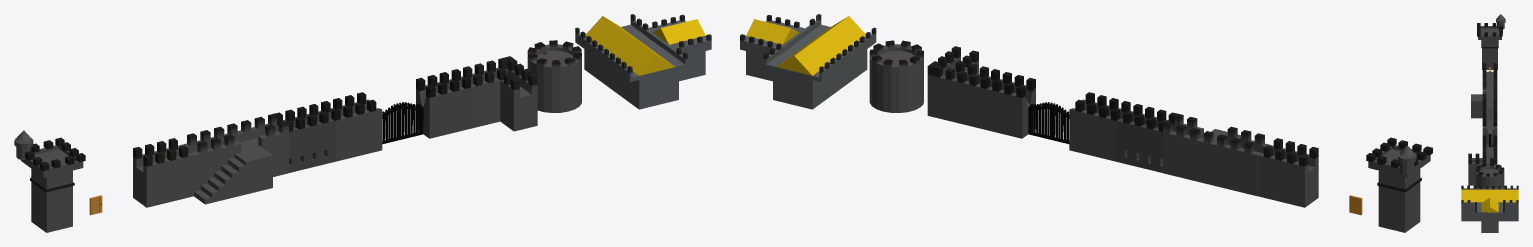
The model's file is blender kasteelaf7.fbx.
The picture shows the model from 3 angles, left to right: view 1: azimuth 30°, elevation 25°; view 2: azimuth 150°, elevation 25°; view 3: azimuth 270°, elevation 25°; orthographic projection. The views are drawn at different scales.
Visible parts, largest first — view 1: hoofd kasteel, poortmuur, muur met trap, uitkijktoren, hoekmuur, muur, woontoren, schietmuur; view 2: hoofd kasteel, poortmuur, muur met trap, uitkijktoren, woontoren, muur, hoekmuur, schietmuur; view 3: hoofd kasteel, uitkijktoren, woontoren, muur met trap, poortmuur, hoekmuur, muur, schietmuur.
Part boxes in pixels (x1,y1,x2,y2): hoofd kasteel: [575, 14, 711, 109]; poortmuur: [321, 69, 476, 161]; muur met trap: [180, 113, 288, 204]; uitkijktoren: [14, 130, 85, 232]; hoekmuur: [463, 56, 537, 131]; muur: [133, 138, 193, 207]; woontoren: [527, 40, 581, 112]; schietmuur: [274, 104, 334, 172]; hoofd kasteel: [740, 14, 876, 109]; poortmuur: [974, 69, 1130, 161]; muur met trap: [1163, 113, 1271, 196]; uitkijktoren: [1366, 137, 1432, 232]; woontoren: [869, 40, 923, 112]; muur: [1258, 138, 1318, 207]; hoekmuur: [927, 46, 988, 126]; schietmuur: [1117, 104, 1176, 172]; hoofd kasteel: [1461, 185, 1518, 232]; uitkijktoren: [1477, 14, 1505, 69]; woontoren: [1475, 163, 1504, 188]; muur met trap: [1471, 76, 1497, 118]; poortmuur: [1482, 111, 1497, 156]; hoekmuur: [1468, 147, 1497, 185]; muur: [1482, 63, 1497, 83]; schietmuur: [1482, 99, 1497, 119].
Bounding box in the file's own units: 8495 × 1124 × 1200.
